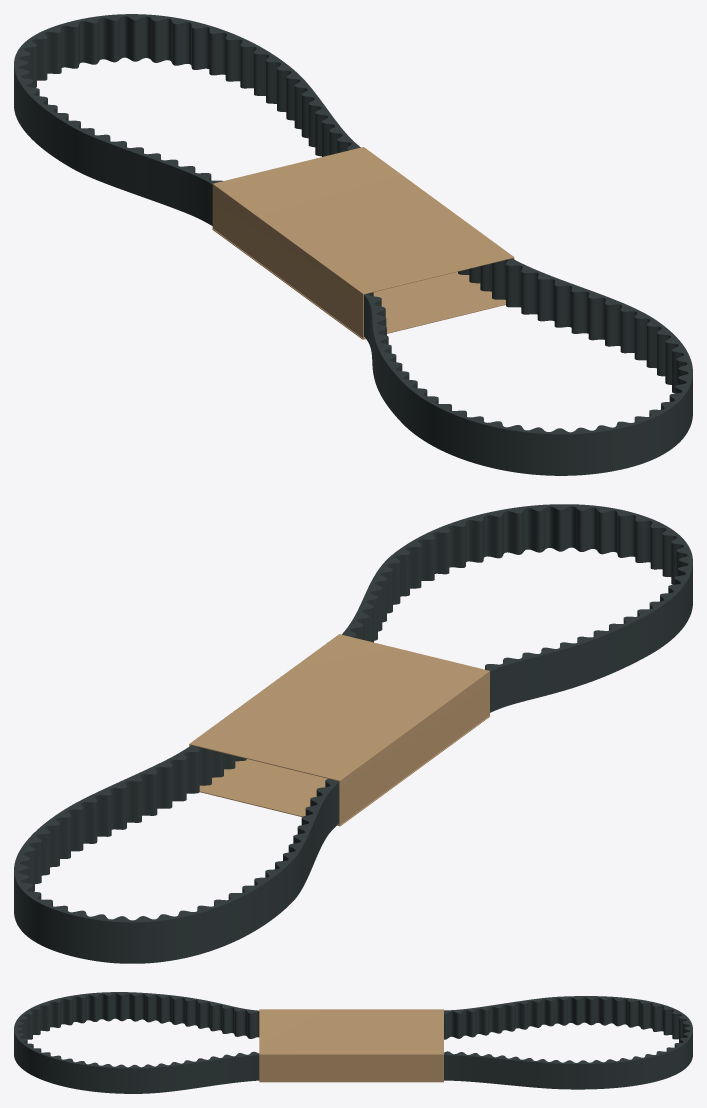
The model's file is consumable_belt_timing_packaged_a01.glb.
The picture shows the model from 3 angles, top to bottom: view 1: azimuth 30°, elevation 25°; view 2: azimuth 150°, elevation 25°; view 3: azimuth 270°, elevation 25°; orthographic projection. The views are drawn at different scales.
Bounding box in the file's own units: 0.1773 × 0.0305 × 0.6658.
